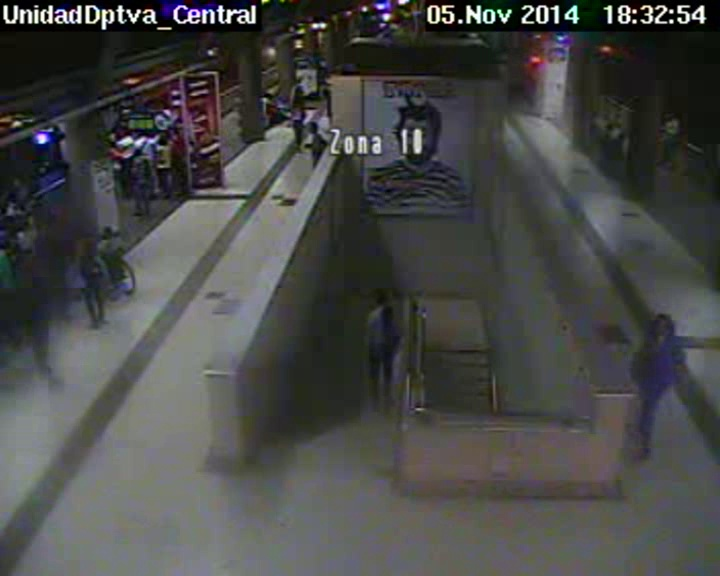person: (650, 316, 669, 335), (18, 237, 34, 256), (375, 292, 389, 309), (81, 238, 95, 252), (305, 120, 318, 134), (1, 214, 13, 229), (101, 224, 112, 238), (134, 145, 146, 156), (106, 131, 115, 145), (158, 134, 169, 145), (172, 126, 182, 138), (665, 111, 676, 120), (291, 97, 300, 107), (132, 129, 141, 139), (295, 76, 303, 85), (34, 192, 42, 201), (263, 91, 271, 99)
